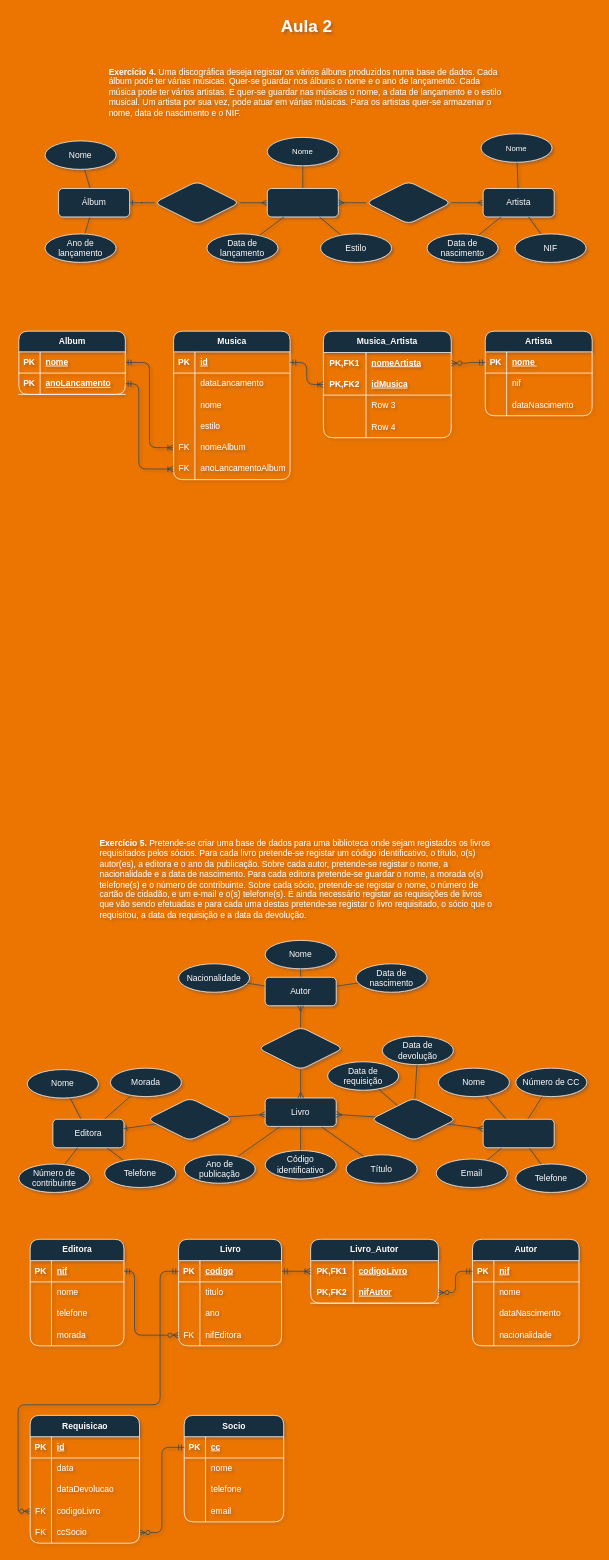
Some shapes in this 609 by 1560 pixel diagram are drawn without their labels. Each missing label, with the centre of its shape:
Contém: the point at 197,202
Escreve: the point at 300,1048
Música: the point at 302,202
Produz: the point at 408,202
Publica: the point at 190,1119
Requisita: the point at 413,1119
Sócio: the point at 518,1133
